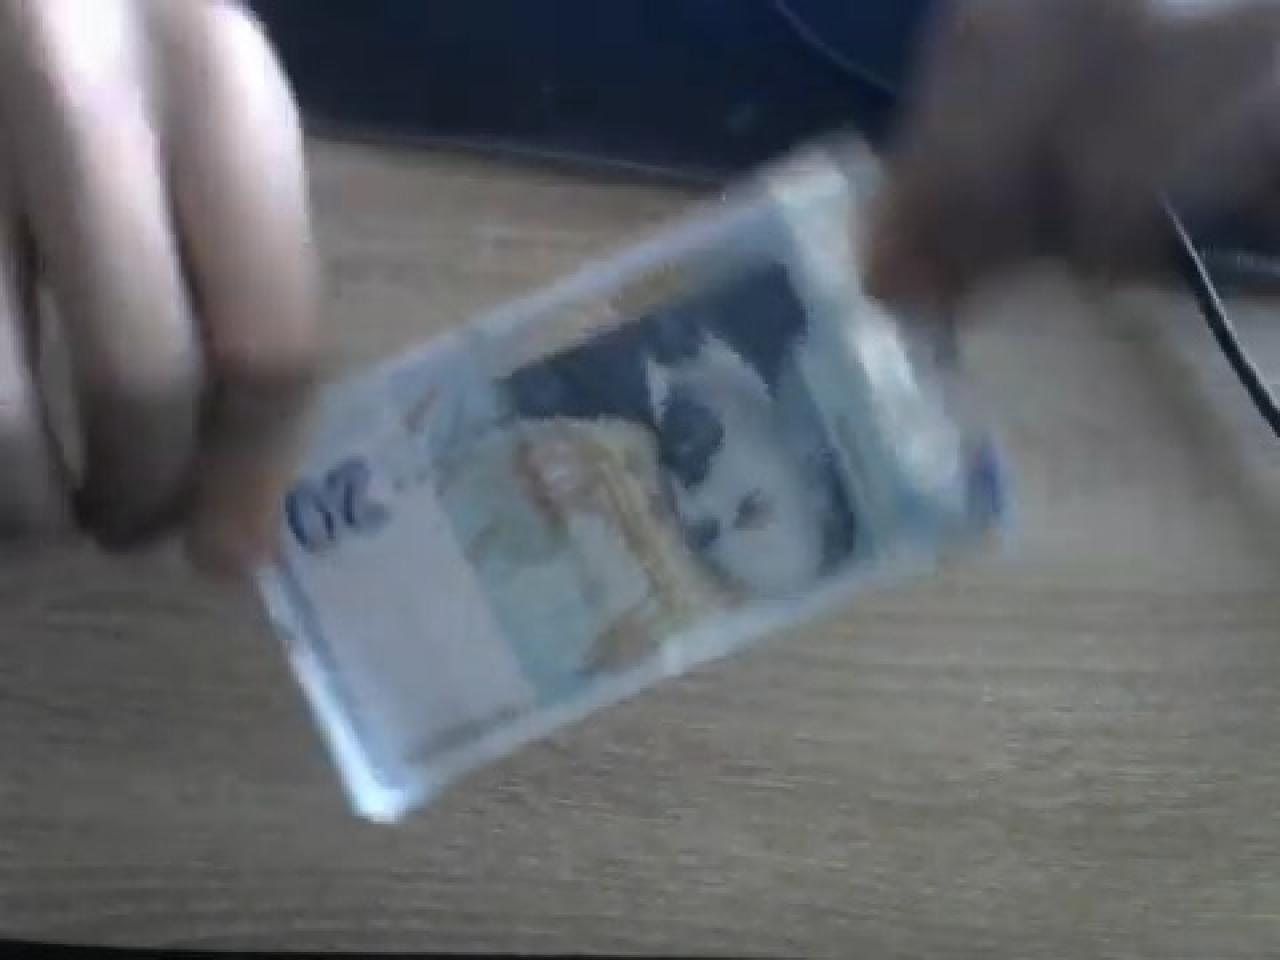20leva: (248, 139, 1008, 821)
